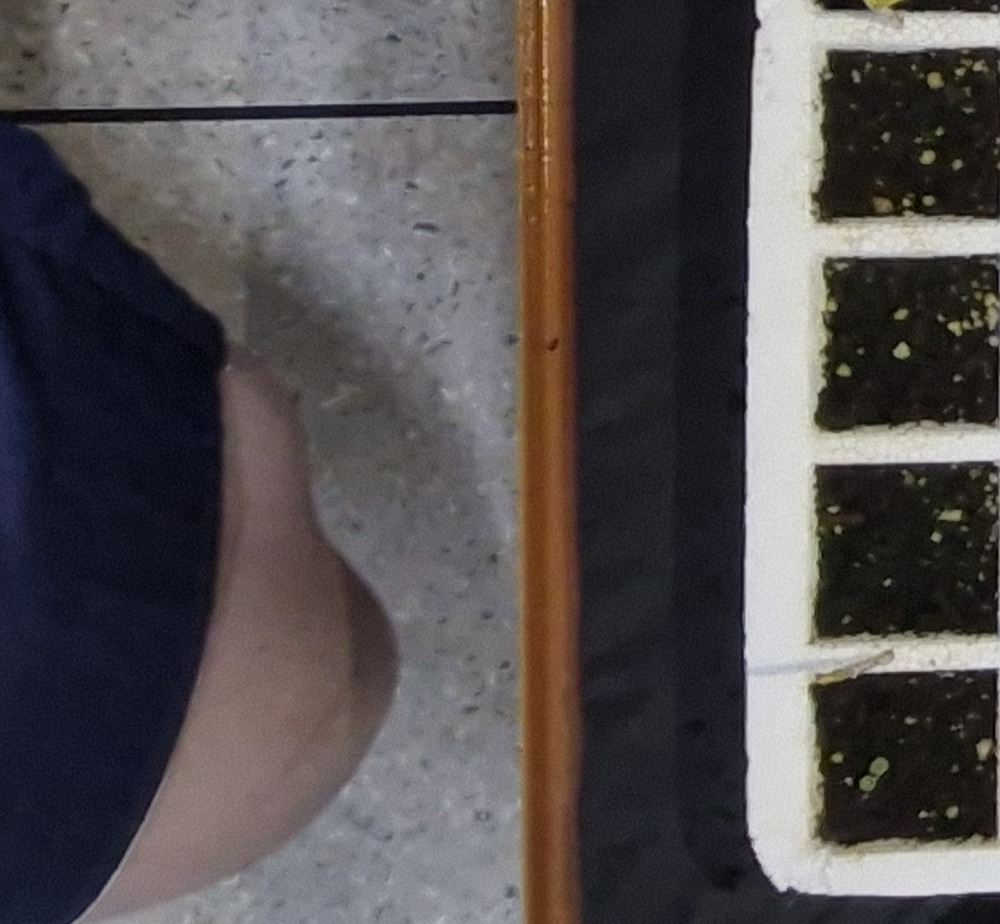Folha: (869, 759, 889, 774), (859, 777, 875, 791)
Germinacao: (859, 755, 889, 792)
